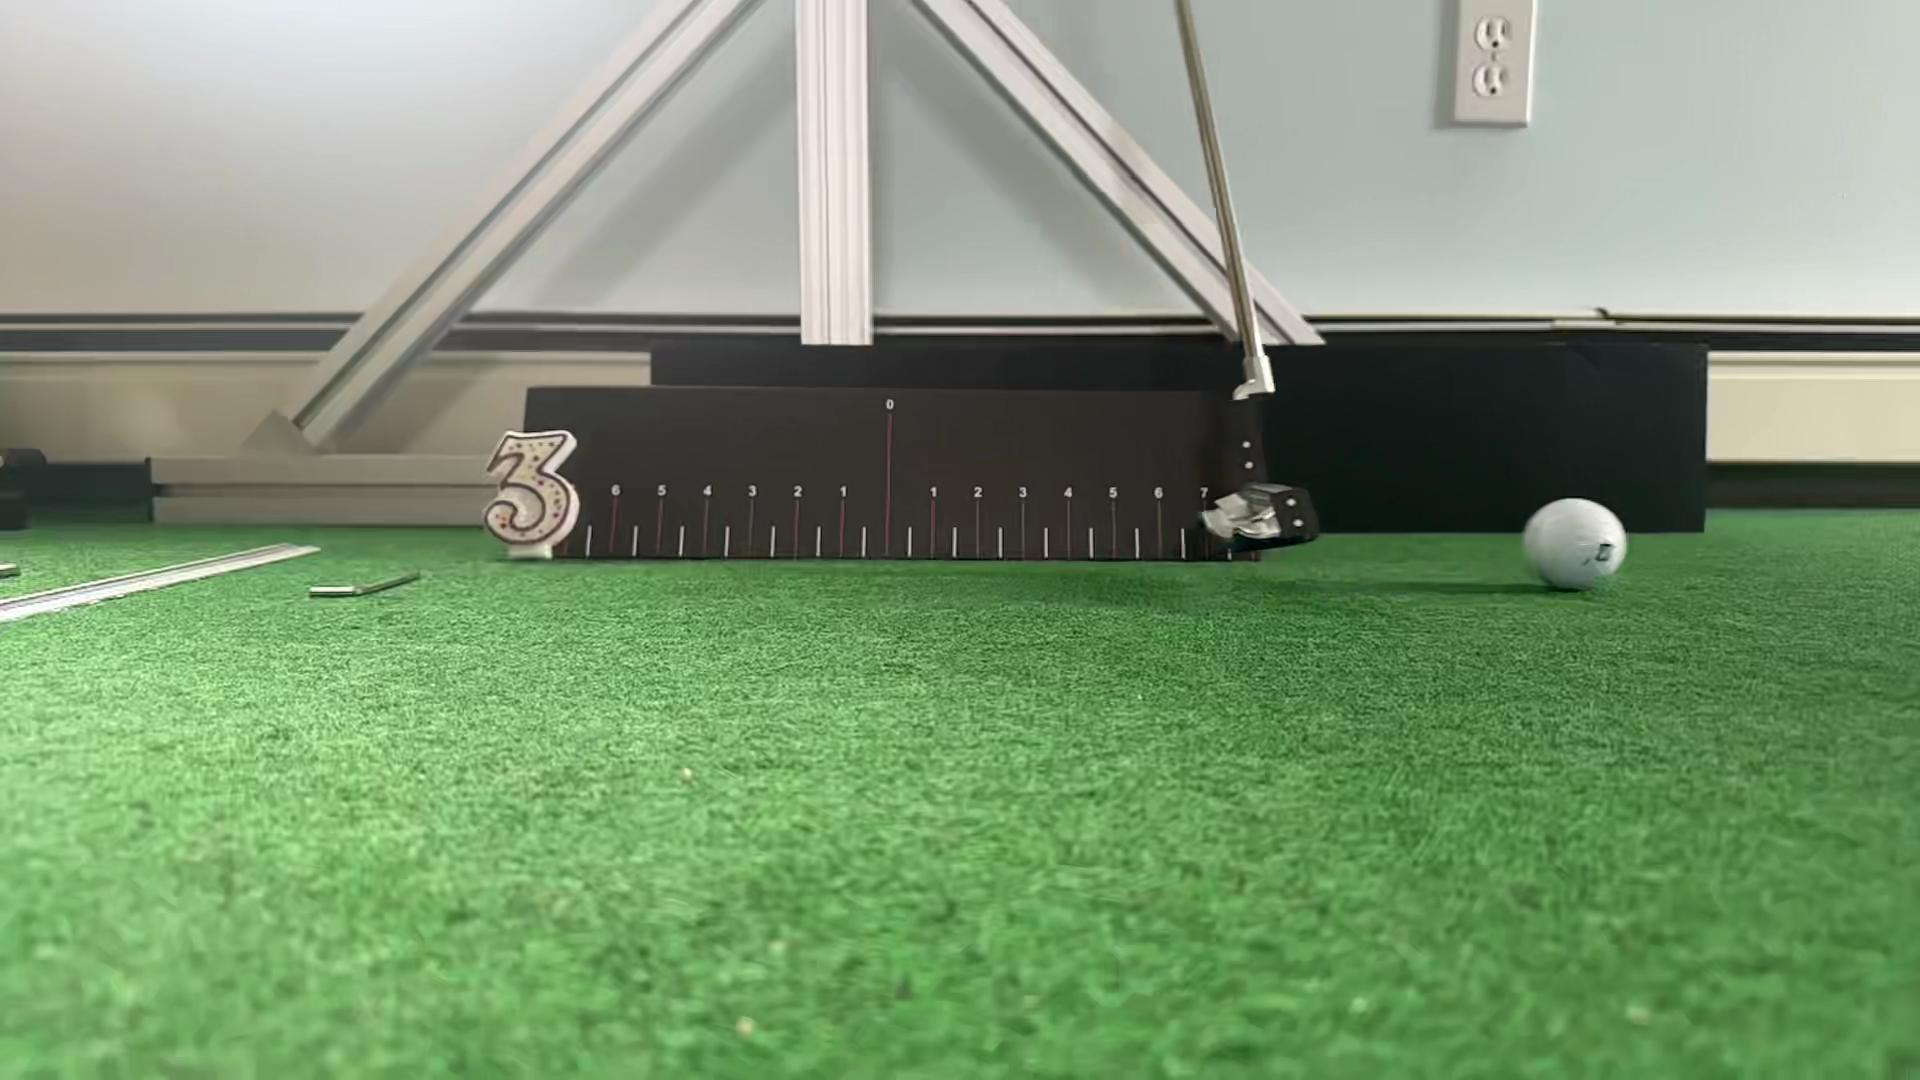golfball: (1523, 499, 1625, 590)
